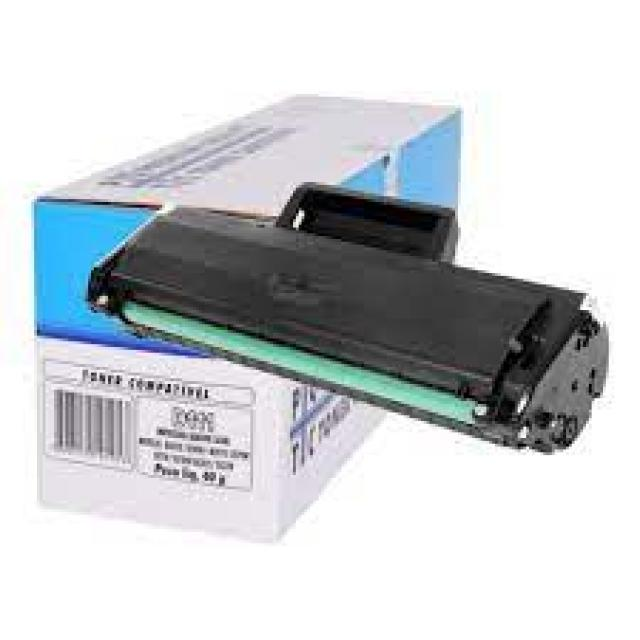printer: (80, 178, 618, 464)
